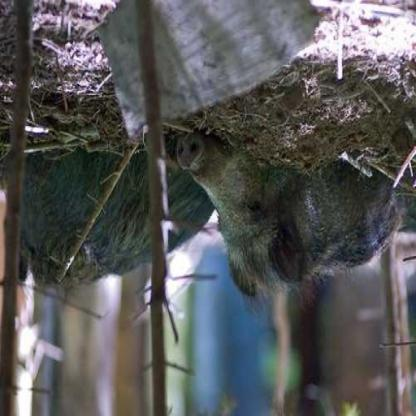boar: (186, 96, 415, 293)
